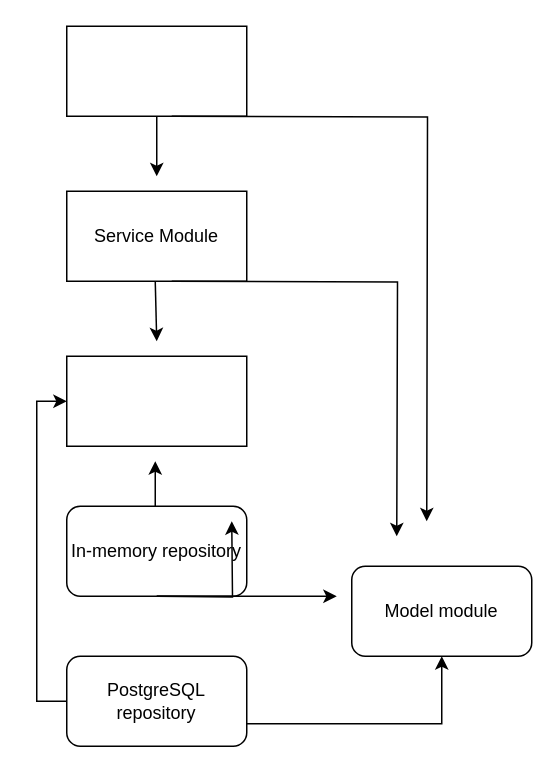
The diagram is 558 pixels wide and 773 high, and some of its shapes have lost their labels. The centre of each missing label's shape, as x and y in pixels:
Repository Interface: (156,400)
UI module: (156,70)
